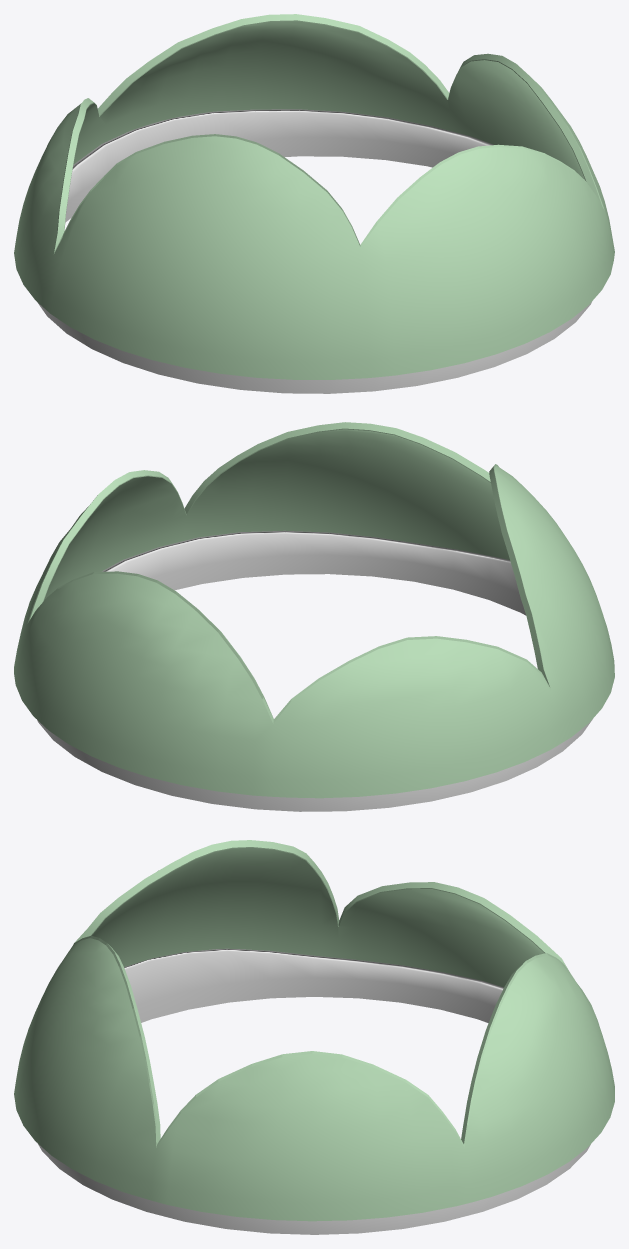
The model's file is S_Structure.fbx.
3 renders of one model, top to bottom at view 1: azimuth 30°, elevation 25°; view 2: azimuth 150°, elevation 25°; view 3: azimuth 270°, elevation 25°, orthographic.
Visible parts, largest first — view 1: StructureNenuphar, BlockingContour; view 2: StructureNenuphar, BlockingContour; view 3: StructureNenuphar, BlockingContour.
Boxes of the visible parts, x1,y1,x2,y2 form: StructureNenuphar: [14, 14, 614, 379]; BlockingContour: [37, 109, 591, 393]; StructureNenuphar: [14, 422, 614, 798]; BlockingContour: [37, 530, 593, 811]; StructureNenuphar: [14, 840, 614, 1221]; BlockingContour: [37, 948, 590, 1234].
Size of the model in its own units: 85963 by 32493 by 85905.
